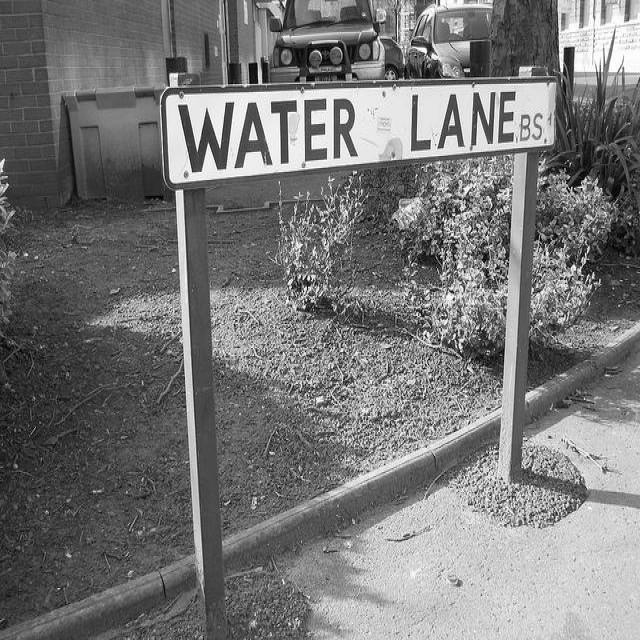vehicle: (269, 0, 387, 84), (403, 4, 493, 79), (379, 36, 404, 80)
